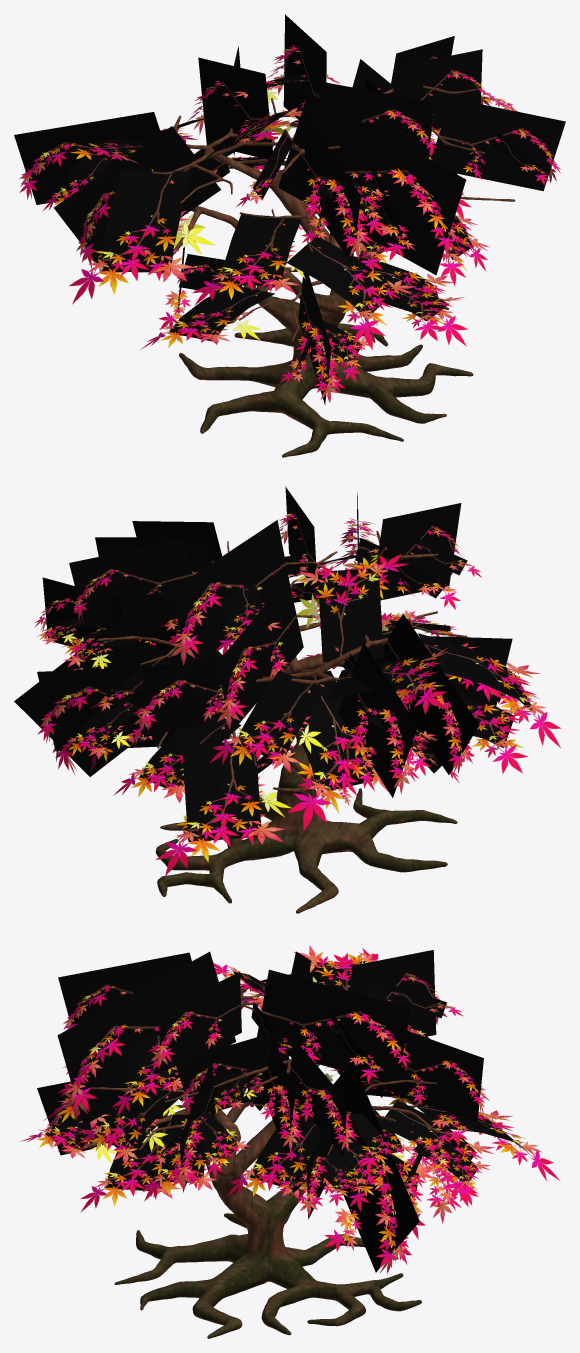
Rendered from japanese_maple.gltf.
The picture shows the model from 3 angles, top to bottom: view 1: azimuth 30°, elevation 25°; view 2: azimuth 150°, elevation 25°; view 3: azimuth 270°, elevation 25°; orthographic projection. The views are drawn at different scales.
Parts seen in each view (by area): view 1: Tree, Stick_061, Stick_015, Stick_047, Stick_053, Stick_027, Stick_052, Stick_038, Stick_018, Stick_040, Stick_058, Stick_065 (+14 smaller); view 2: Tree, Stick_030, Stick_037, Stick_032, Stick_056, Stick_012, Stick_052, Stick_027, Stick_053, Stick_057, Stick_039, Stick_018 (+19 smaller); view 3: Tree, Stick_030, Stick_061, Stick_056, Stick_039, Stick_038, Stick_018, Stick_024, Stick_027, Stick_037, Stick_033, Stick_063 (+20 smaller).
Boxes of the visible parts, bbox=[...] form: Tree: bbox=[152, 85, 515, 457]; Stick_061: bbox=[278, 92, 465, 274]; Stick_015: bbox=[431, 98, 565, 191]; Stick_047: bbox=[101, 170, 192, 272]; Stick_053: bbox=[53, 126, 220, 267]; Stick_027: bbox=[14, 112, 160, 204]; Stick_052: bbox=[198, 57, 272, 159]; Stick_038: bbox=[318, 81, 433, 158]; Stick_018: bbox=[294, 112, 361, 263]; Stick_040: bbox=[393, 49, 482, 129]; Stick_058: bbox=[220, 214, 301, 287]; Stick_065: bbox=[286, 236, 394, 317]; Tree: bbox=[96, 531, 467, 913]; Stick_030: bbox=[172, 520, 290, 664]; Stick_037: bbox=[69, 539, 192, 628]; Stick_032: bbox=[182, 741, 261, 841]; Stick_056: bbox=[14, 590, 222, 776]; Stick_012: bbox=[37, 665, 195, 751]; Stick_052: bbox=[216, 578, 303, 731]; Stick_027: bbox=[339, 642, 417, 797]; Stick_053: bbox=[375, 613, 479, 774]; Stick_057: bbox=[317, 568, 383, 662]; Stick_039: bbox=[143, 655, 226, 737]; Stick_018: bbox=[377, 503, 461, 600]; Tree: bbox=[52, 989, 455, 1338]; Stick_030: bbox=[257, 969, 410, 1085]; Stick_061: bbox=[57, 951, 235, 1125]; Stick_056: bbox=[333, 1061, 419, 1272]; Stick_039: bbox=[384, 1031, 483, 1122]; Stick_038: bbox=[158, 972, 241, 1072]; Stick_018: bbox=[58, 952, 191, 1025]; Stick_024: bbox=[174, 1030, 290, 1111]; Stick_027: bbox=[351, 950, 436, 1036]; Stick_037: bbox=[290, 1038, 347, 1155]; Stick_033: bbox=[249, 1105, 322, 1185]; Stick_063: bbox=[98, 1088, 180, 1149].
Bounding box in the file's own units: 2.78 × 1.78 × 2.78.
Materials: 3 (3 with a texture image).
